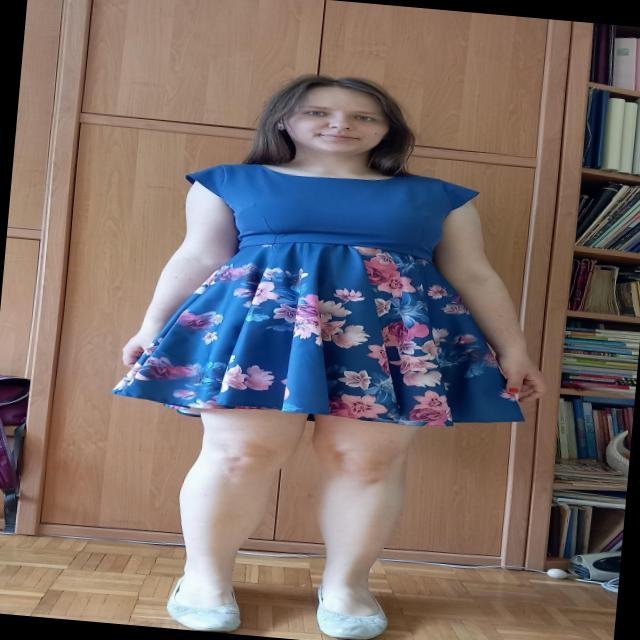dress: (108, 148, 548, 445)
